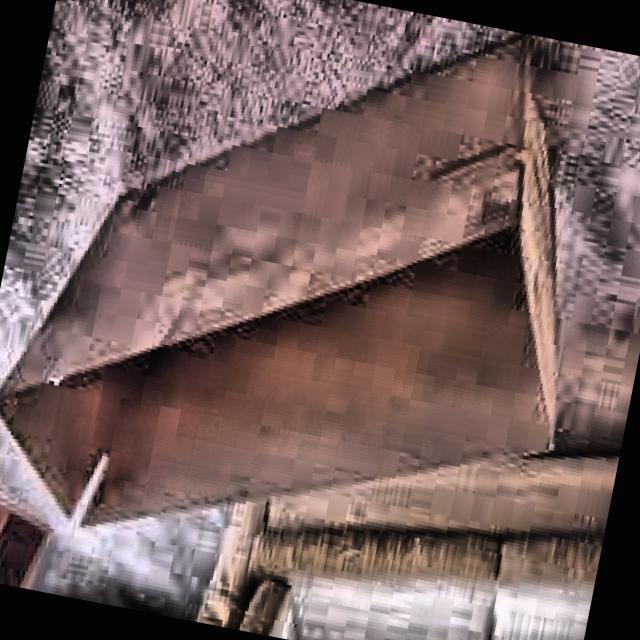cardboard: (0, 0, 630, 619)
